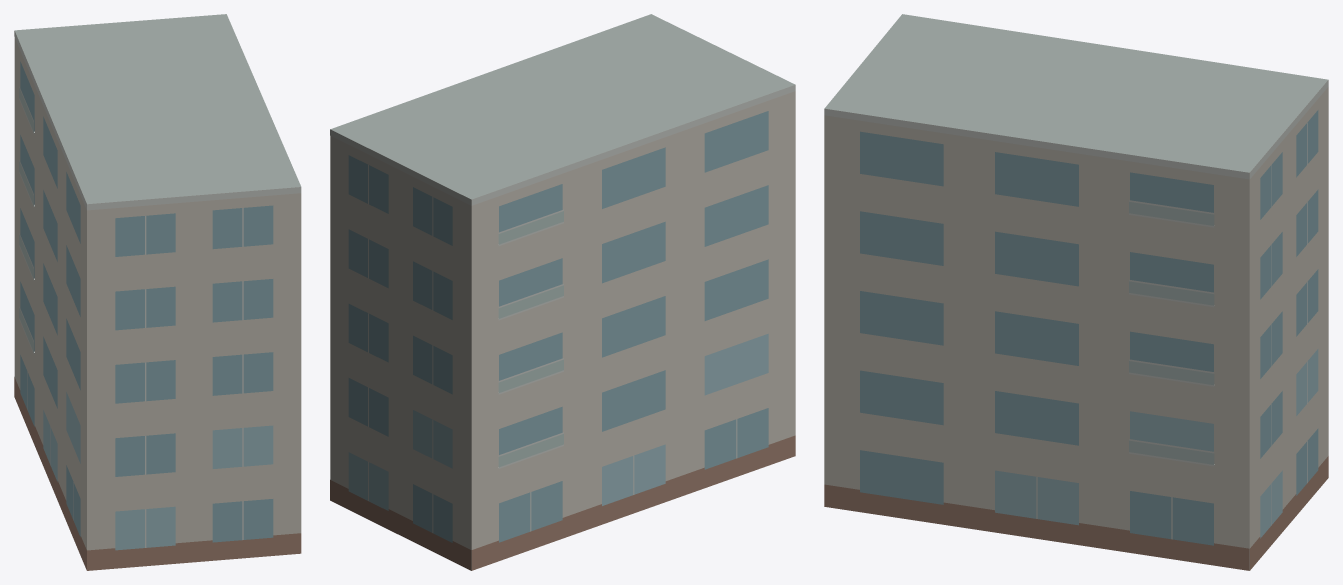
File: survey-upis-32854285.glb
3 renders of one model, left to right at view 1: azimuth 30°, elevation 25°; view 2: azimuth 150°, elevation 25°; view 3: azimuth 270°, elevation 25°, orthographic. The views are drawn at different scales.
Visible parts, largest first — view 1: survey-upis-32854285.tmp; view 2: survey-upis-32854285.tmp; view 3: survey-upis-32854285.tmp.
Part boxes in pixels (x1=…): survey-upis-32854285.tmp: x1=14, y1=14, x2=301, y2=570; survey-upis-32854285.tmp: x1=330, y1=14, x2=795, y2=570; survey-upis-32854285.tmp: x1=824, y1=14, x2=1328, y2=570.
Size of the model in its own units: 12.33 by 14.4 by 16.54.
